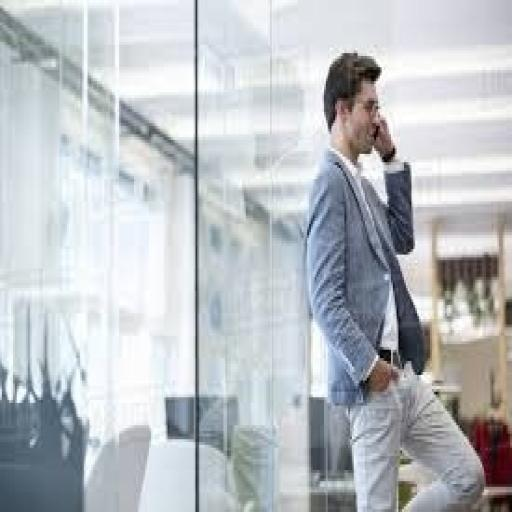calling: (302, 48, 488, 509)
